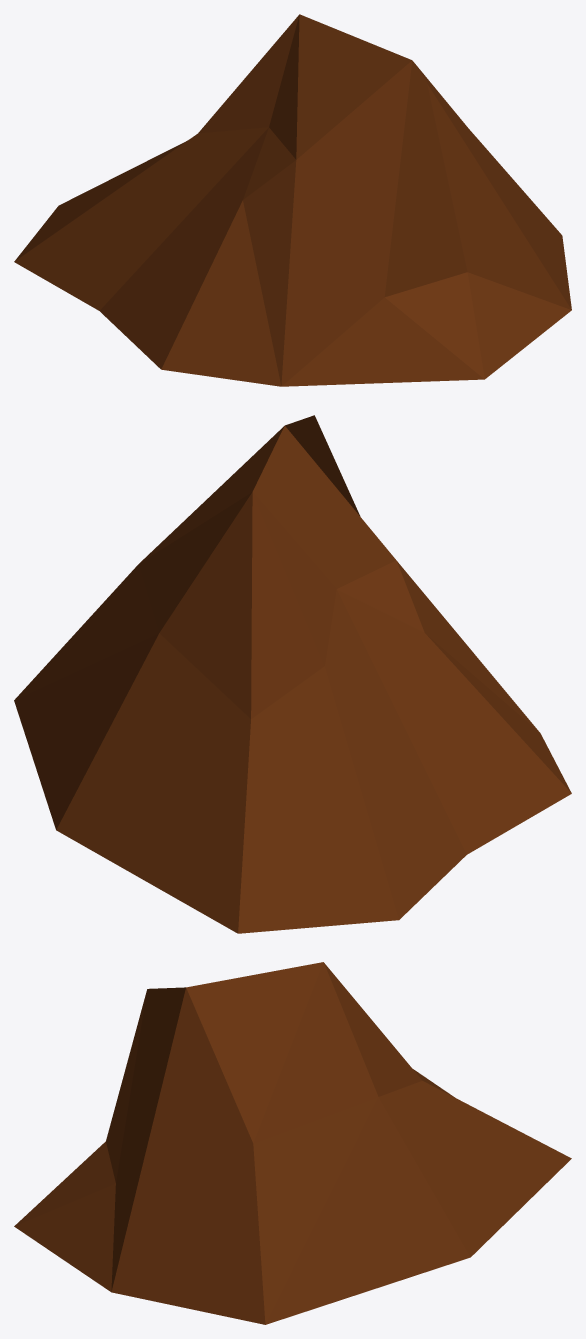
Rendered from roca_7.FBX.
The picture shows the model from 3 angles, top to bottom: view 1: azimuth 30°, elevation 25°; view 2: azimuth 150°, elevation 25°; view 3: azimuth 270°, elevation 25°; orthographic projection. The views are drawn at different scales.
Parts seen in each view (by area): view 1: Sphere006; view 2: Sphere006; view 3: Sphere006.
Part boxes in pixels (x1=…): Sphere006: x1=14, y1=14, x2=571, y2=386; Sphere006: x1=14, y1=415, x2=571, y2=933; Sphere006: x1=14, y1=962, x2=571, y2=1324.
Bounding box in the file's own units: 2.7 × 1.51 × 3.03.
